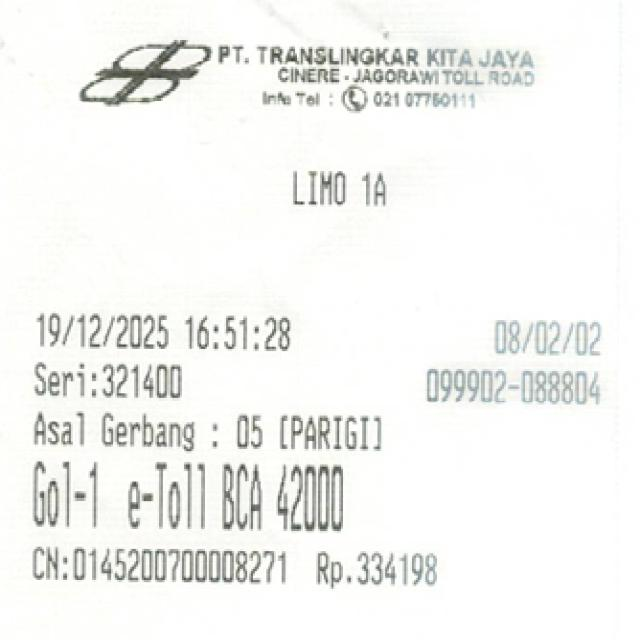date: (36, 309, 299, 355)
store: (206, 46, 540, 89)
total: (272, 464, 356, 540)
